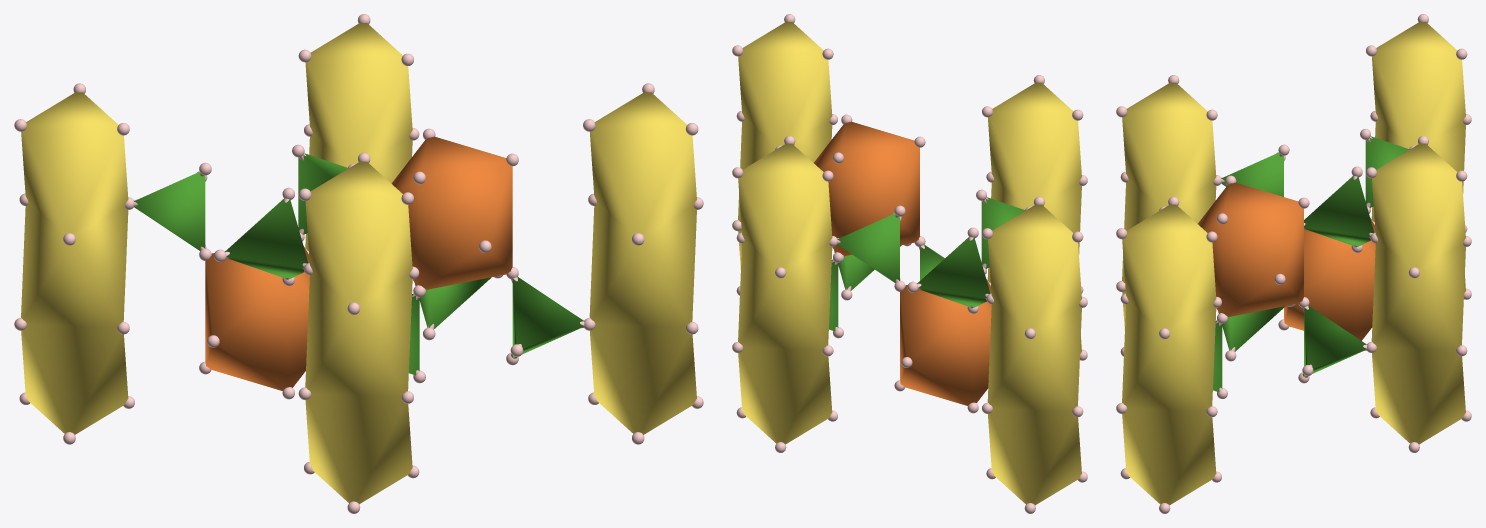
File: CaTh(SeO4)3-hexagonal-gnome723a502352-p1.glb
3 views of the same model, side by side, from view 1: azimuth 30°, elevation 25°; view 2: azimuth 150°, elevation 25°; view 3: azimuth 270°, elevation 25° (orthographic). The views are drawn at different scales.
Visible parts, largest first — view 1: CaTh(SeO4)3-P6_3-m-gnome723a502352-p1; view 2: CaTh(SeO4)3-P6_3-m-gnome723a502352-p1; view 3: CaTh(SeO4)3-P6_3-m-gnome723a502352-p1.
Boxes of the visible parts, bbox=[...] form: CaTh(SeO4)3-P6_3-m-gnome723a502352-p1: bbox=[14, 14, 703, 513]; CaTh(SeO4)3-P6_3-m-gnome723a502352-p1: bbox=[732, 14, 1087, 513]; CaTh(SeO4)3-P6_3-m-gnome723a502352-p1: bbox=[1116, 14, 1471, 513].
Bounding box in the file's own units: 18.11 × 9.93 × 11.75.
